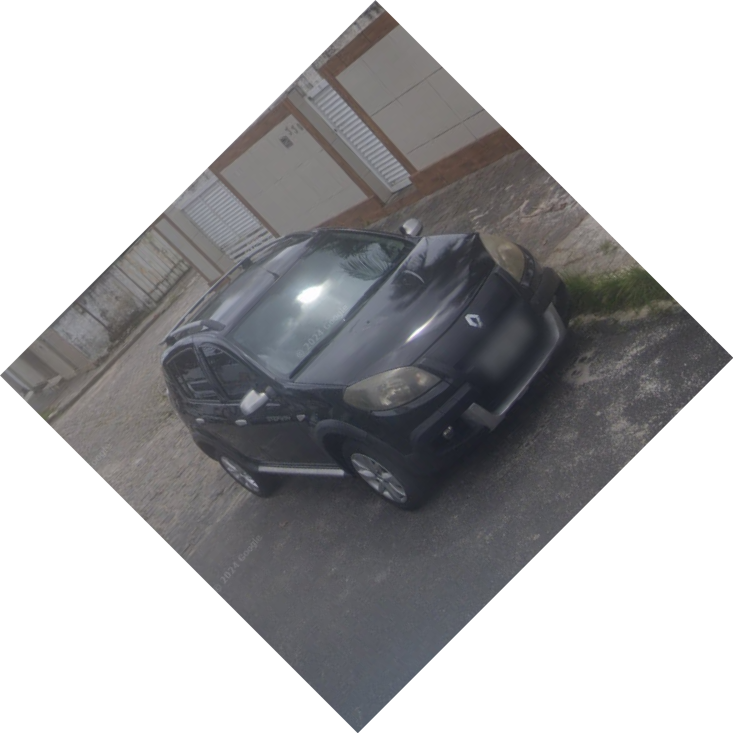car: (156, 214, 576, 512)
